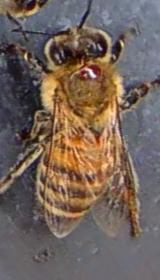varroa_mite: (69, 58, 107, 84)
